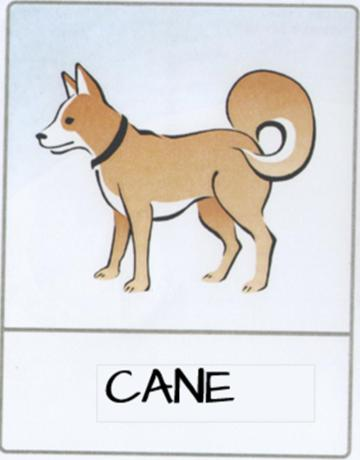cane: (1, 2, 360, 460)
